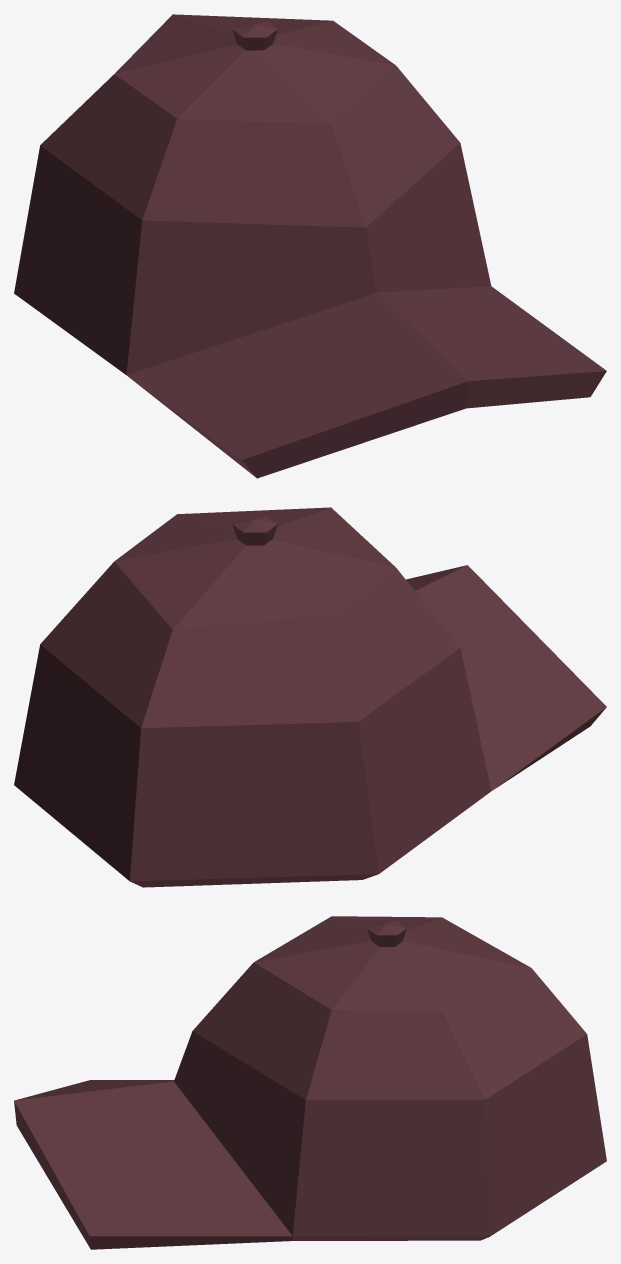
The model's file is props-cap-baseball.glb.
3 views of the same model, one above another, from view 1: azimuth 30°, elevation 25°; view 2: azimuth 150°, elevation 25°; view 3: azimuth 270°, elevation 25° (orthographic). The views are drawn at different scales.
Parts seen in each view (by area): view 1: cap-baseball; view 2: cap-baseball; view 3: cap-baseball.
Boxes of the visible parts, x1,y1,x2,y2 form: cap-baseball: [14, 14, 606, 478]; cap-baseball: [14, 507, 606, 887]; cap-baseball: [14, 916, 606, 1249].
Bounding box in the file's own units: 0.1981 × 0.1503 × 0.3176.
